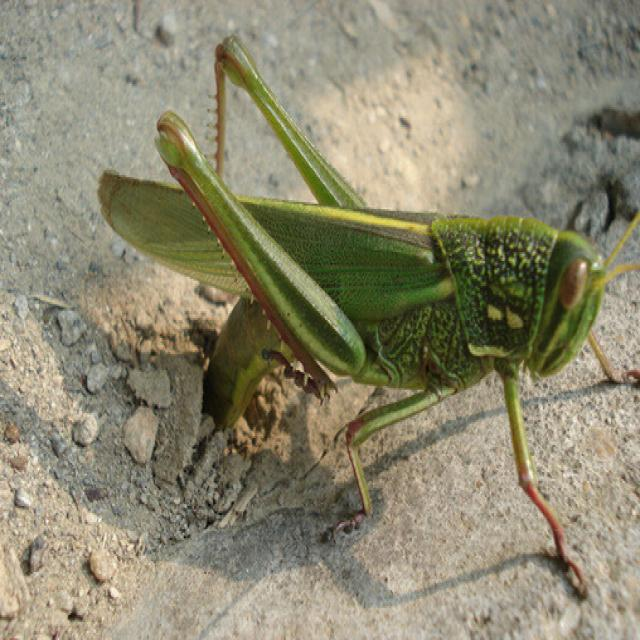ZhaMeng: (86, 34, 633, 464)
